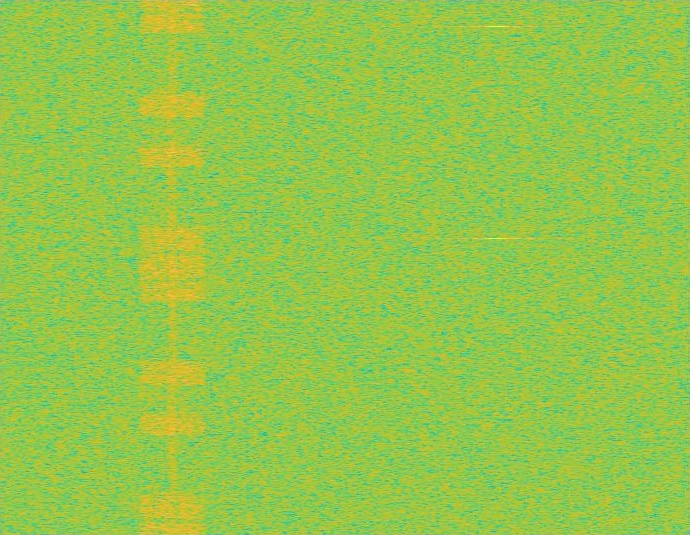DSSS: (168, 0, 177, 534)
LTE: (138, 0, 207, 534)
Radar: (490, 0, 504, 534)
